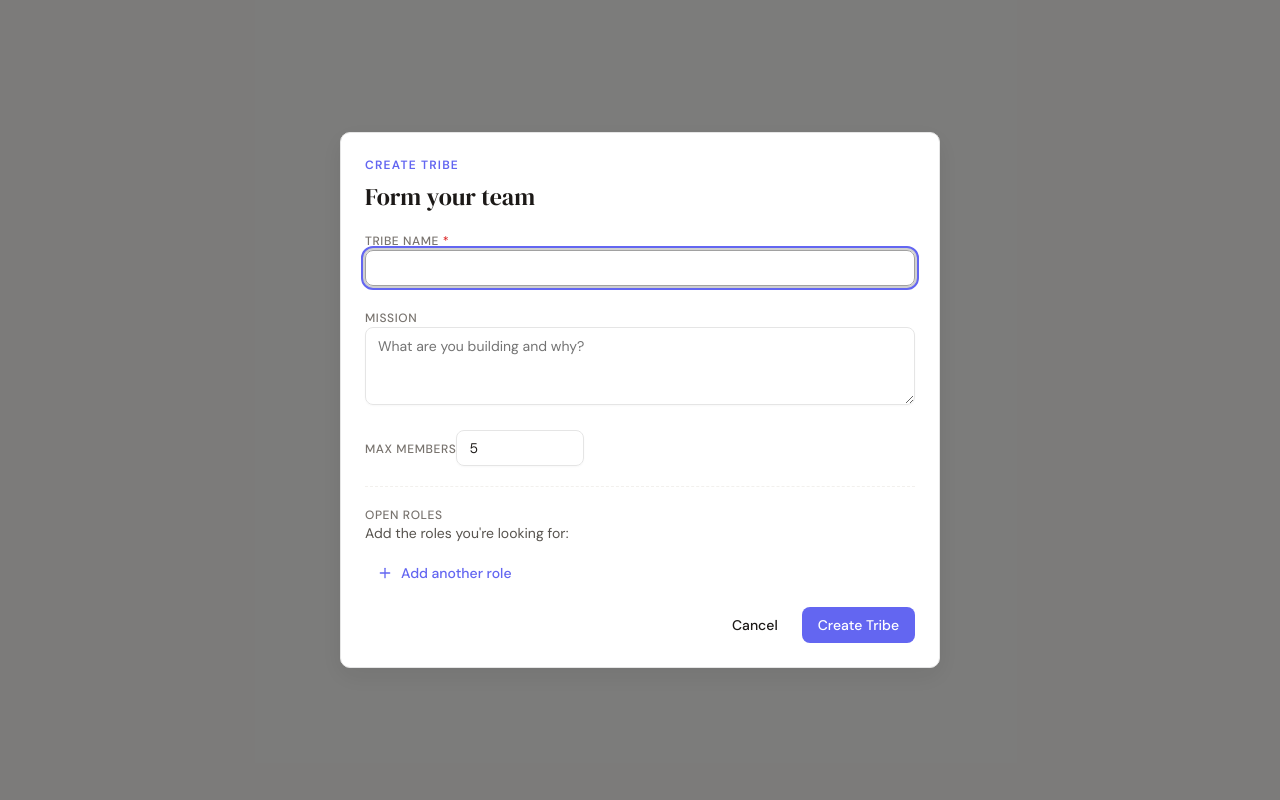
Scenario: CreateTribeModal › can remove skill tags
Click the button "Add another role": (444, 573) [365,555,524,591]
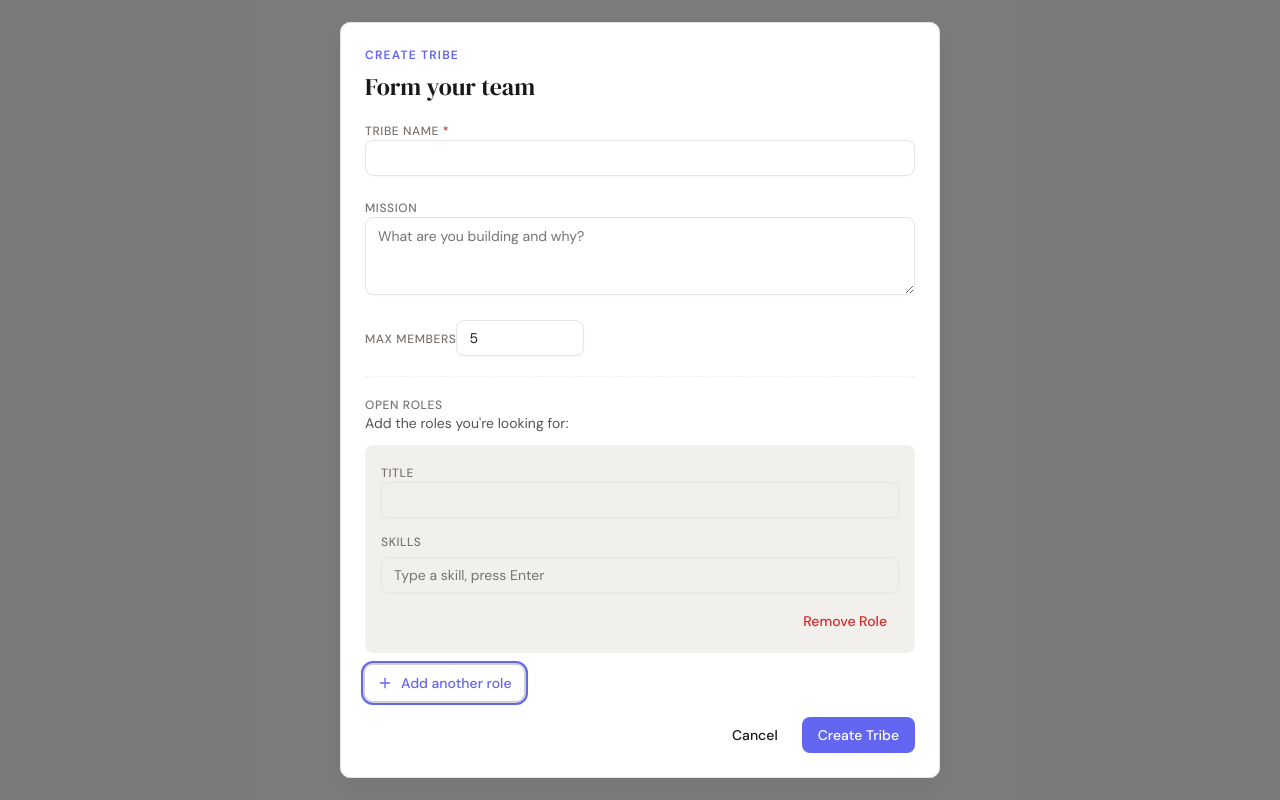
In the field labelled "Skills": (640, 575) [381,557,899,593], type "Python"
Then press Enter
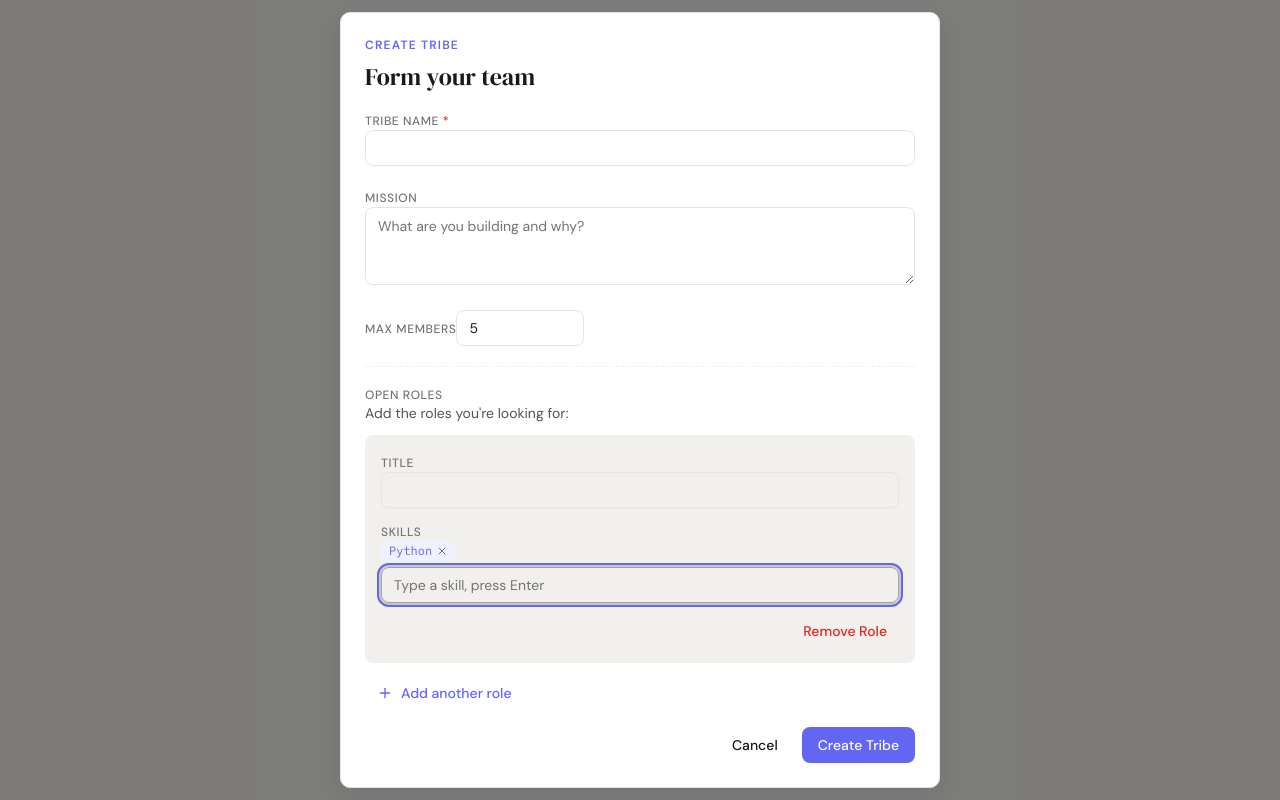
Check: the text "Python" is shown, box [381,541,456,561]
Click the button named "remove python": (442, 551) [436,545,448,557]
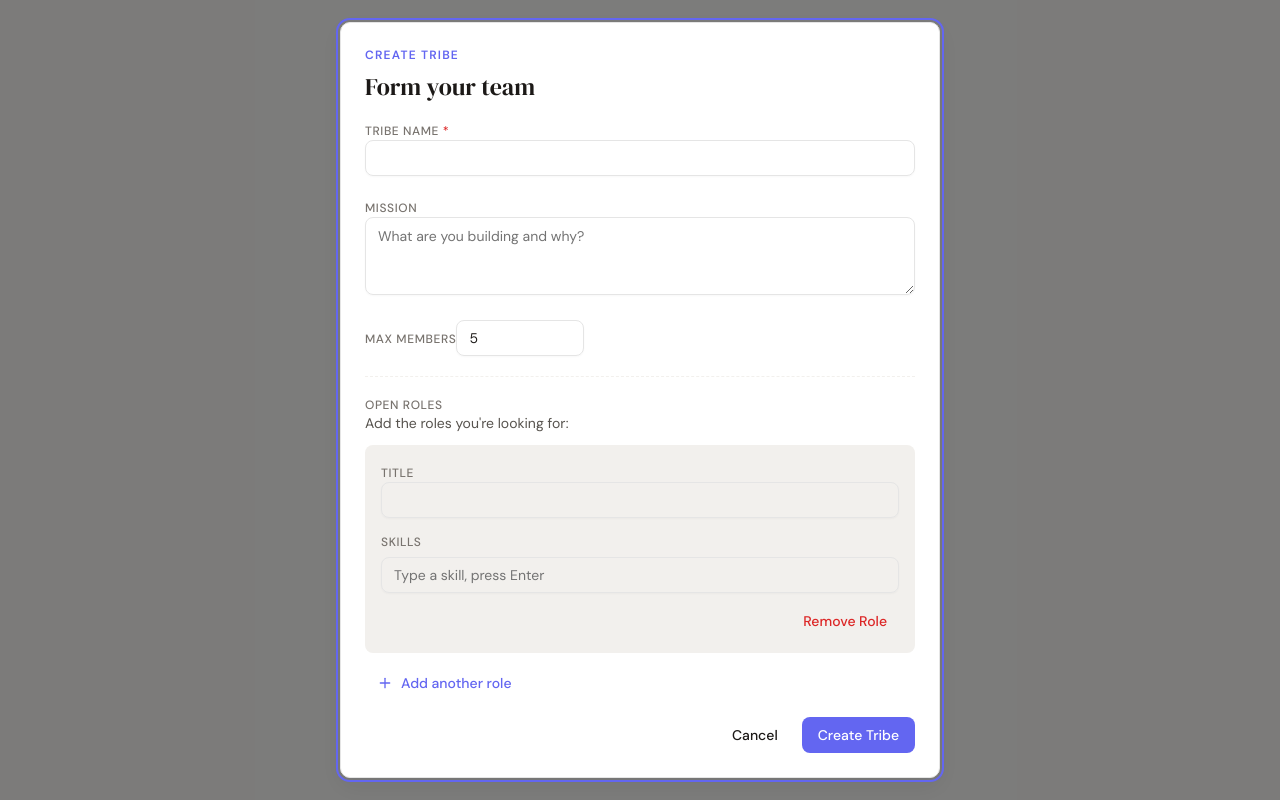
Check: the text "Python" is gone
